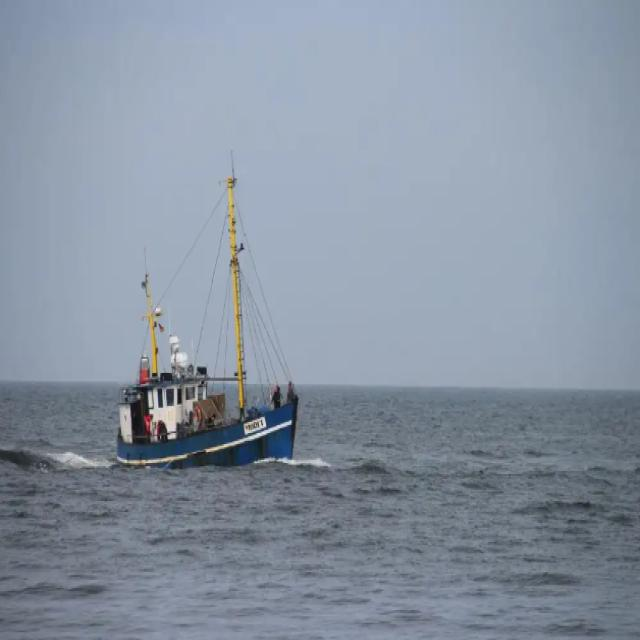fishing boat: (117, 164, 303, 465)
